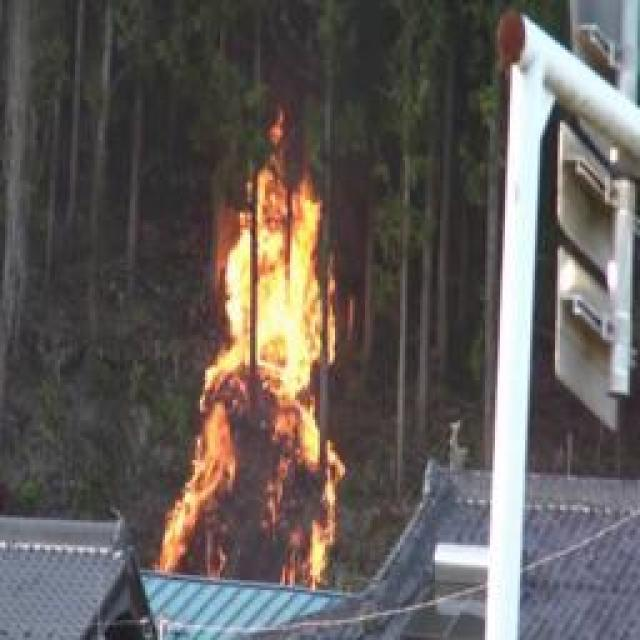Fire: (169, 136, 351, 589)
